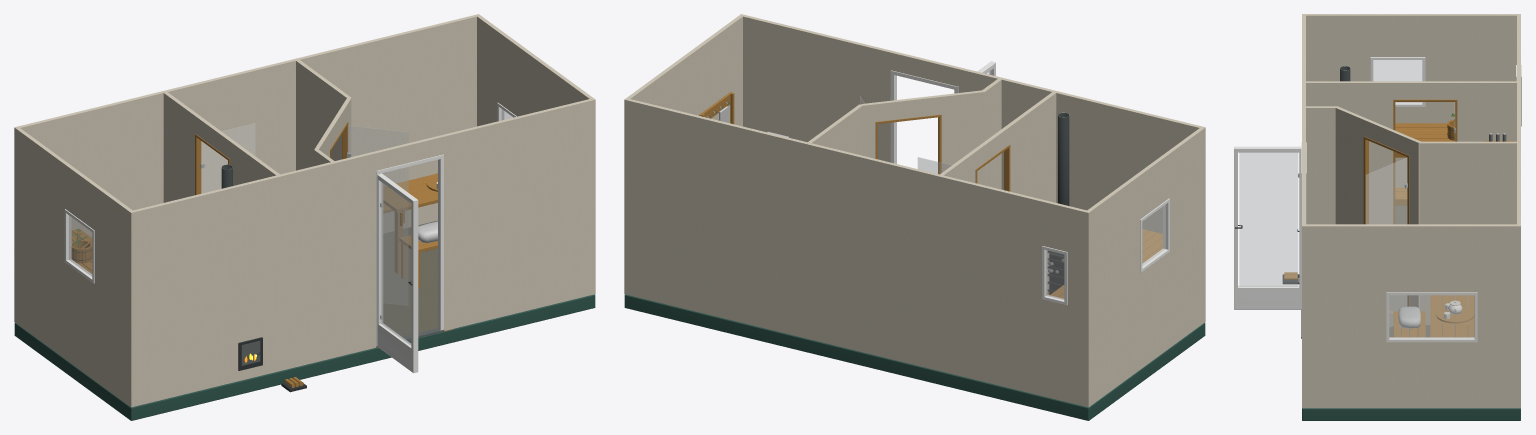
3 views of the same model, side by side, from view 1: azimuth 30°, elevation 25°; view 2: azimuth 150°, elevation 25°; view 3: azimuth 270°, elevation 25° (orthographic). The views are drawn at different scales.
Parts seen in each view (by area): view 1: Wall front band 2, Wall front band 6, Wall front band 5, Wall front band 4, Wall front band 7, Wall rear band 7, Wall front band 1, Wall front band 8, Wall rear band 8, Wall rear band 6, Foundation, Wall rear band 5 (+34 smaller); view 2: Wall rear band 2, Wall rear band 7, Wall rear band 4, Wall rear band 1, Wall rear band 6, Wall rear band 5, Wall rear band 8, Wall front band 8, Foundation, Wall front band 7, Wall rear band 0, Wall front band 6 (+27 smaller); view 3: Single PVC glass panel, Wall right band 2, Wall right band 6, Wall right band 7, Wall left band 7, Wall right band 1, Wall left band 8, Wall right band 8, Wall v4_p19_top_12_0003 band 8, Window glazing.002, Wall left band 6, Wall right band 5 (+42 smaller).
Boxes of the visible parts, bbox=[...] form: Wall front band 2: bbox=[129, 228, 595, 370]; Wall front band 6: bbox=[129, 144, 595, 283]; Wall front band 5: bbox=[129, 170, 595, 310]; Wall front band 4: bbox=[129, 197, 595, 336]; Wall front band 7: bbox=[129, 117, 595, 256]; Wall rear band 7: bbox=[14, 34, 476, 172]; Wall front band 1: bbox=[129, 257, 595, 395]; Wall front band 8: bbox=[129, 98, 595, 230]; Wall rear band 8: bbox=[14, 14, 480, 145]; Wall rear band 6: bbox=[14, 61, 476, 198]; Foundation: bbox=[14, 220, 595, 420]; Wall rear band 5: bbox=[14, 87, 476, 225]; Wall rear band 2: bbox=[624, 228, 1090, 370]; Wall rear band 7: bbox=[624, 117, 1090, 256]; Wall rear band 4: bbox=[624, 197, 1090, 336]; Wall rear band 1: bbox=[624, 257, 1090, 395]; Wall rear band 6: bbox=[624, 144, 1090, 283]; Wall rear band 5: bbox=[624, 170, 1090, 310]; Wall rear band 8: bbox=[624, 98, 1090, 230]; Wall front band 8: bbox=[739, 14, 1205, 145]; Foundation: bbox=[624, 294, 1205, 420]; Wall front band 7: bbox=[743, 34, 1205, 172]; Wall rear band 0: bbox=[624, 282, 1090, 407]; Wall front band 6: bbox=[743, 61, 1205, 198]; Single PVC glass panel: bbox=[1239, 153, 1297, 286]; Wall right band 2: bbox=[1306, 346, 1516, 373]; Wall right band 6: bbox=[1306, 267, 1516, 292]; Wall right band 7: bbox=[1306, 242, 1516, 267]; Wall left band 7: bbox=[1306, 32, 1516, 56]; Wall right band 1: bbox=[1306, 373, 1516, 396]; Wall left band 8: bbox=[1306, 14, 1516, 32]; Wall right band 8: bbox=[1306, 224, 1516, 242]; Wall v4_p19_top_12_0003 band 8: bbox=[1306, 81, 1516, 99]; Window glazing.002: bbox=[1389, 295, 1474, 338]; Wall left band 6: bbox=[1306, 57, 1516, 81]; Wall right band 5: bbox=[1306, 292, 1516, 317].
Size of the model in its own units: 5.52 by 2.36 by 3.15.
Materials: 34 (15 with a texture image).
